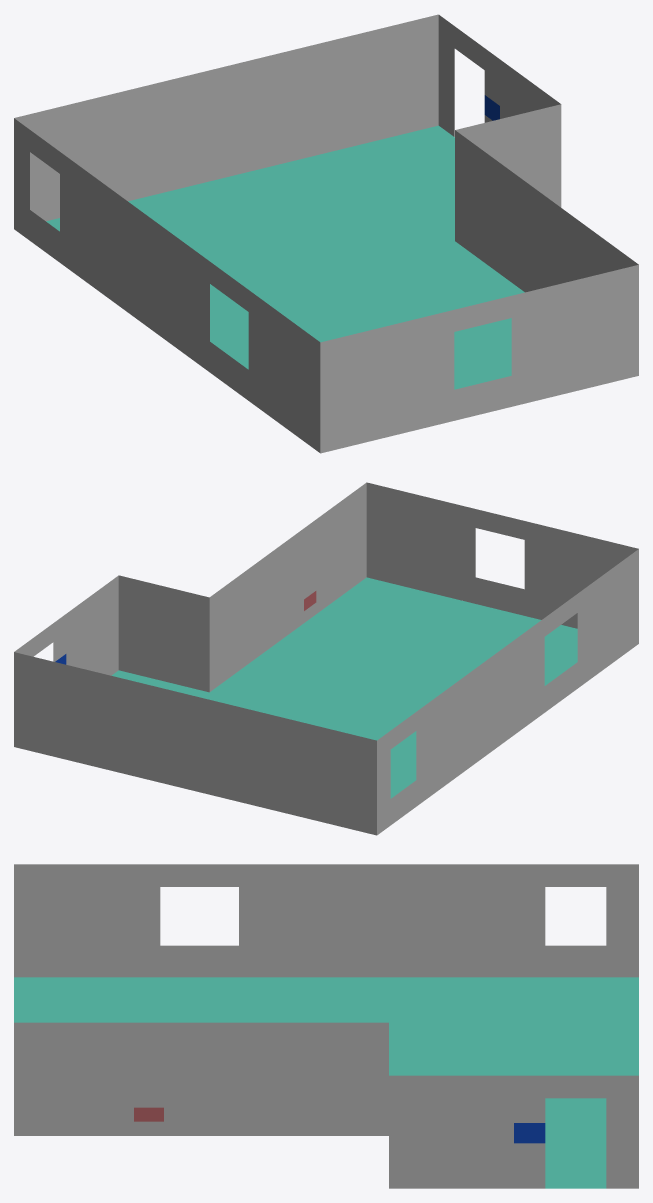
File: boot.dae
3 renders of one model, top to bottom at view 1: azimuth 30°, elevation 25°; view 2: azimuth 150°, elevation 25°; view 3: azimuth 270°, elevation 25°, orthographic. The views are drawn at different scales.
Parts seen in each view (by area): view 1: Cube; view 2: Cube; view 3: Cube.
Part boxes in pixels (<box>): Cube: <box>14,14,638,453</box>; Cube: <box>14,482,638,835</box>; Cube: <box>14,864,638,1188</box>.
Size of the model in its own units: 8 by 10 by 2.
